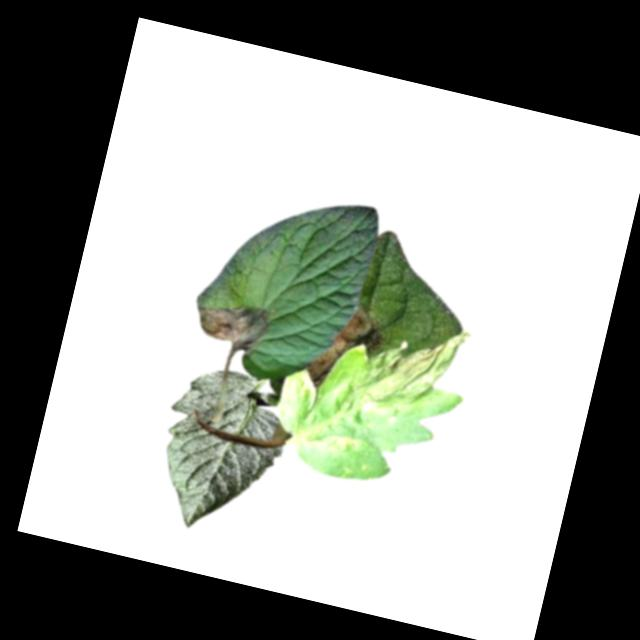Late_blight: (345, 312, 471, 431), (302, 295, 393, 400), (190, 293, 273, 357), (332, 430, 366, 455)
healthy: (144, 358, 300, 545)
